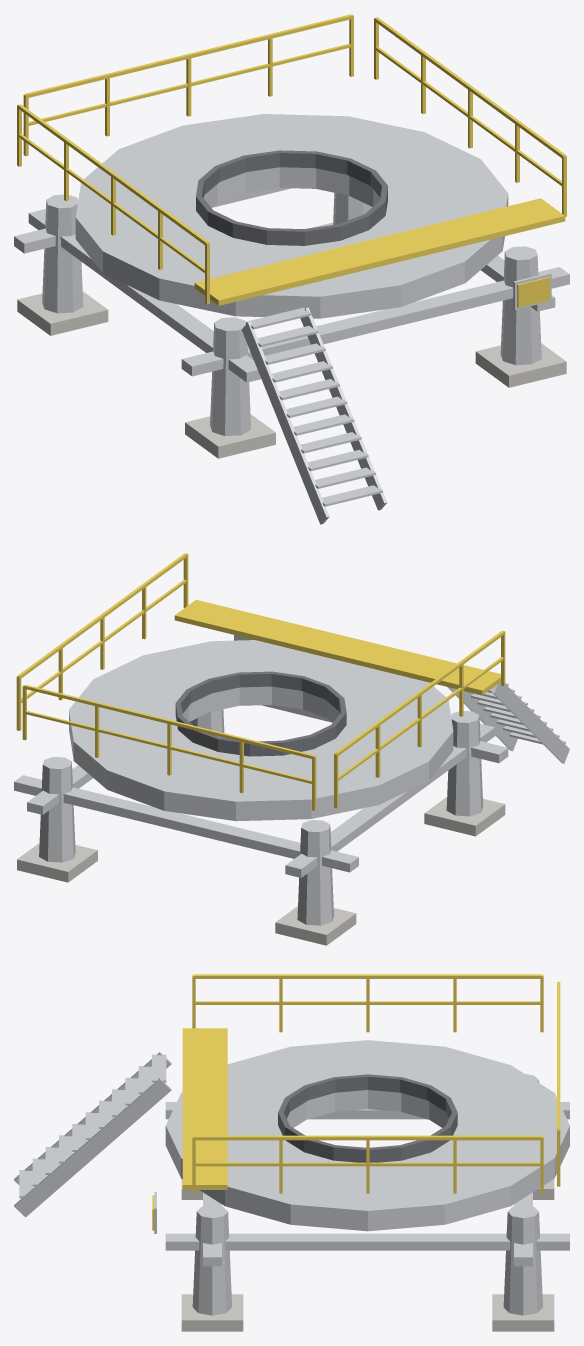
File: rocket-launch-pad-and-gantry-launch-table-42c72052__38158.glb
The picture shows the model from 3 angles, top to bottom: view 1: azimuth 30°, elevation 25°; view 2: azimuth 150°, elevation 25°; view 3: azimuth 270°, elevation 25°; orthographic projection. The views are drawn at different scales.
Parts seen in each view (by area): view 1: launch-table; view 2: launch-table; view 3: launch-table.
Boxes of the visible parts, x1=… form: launch-table: x1=14, y1=14, x2=569, y2=524; launch-table: x1=14, y1=553, x2=569, y2=945; launch-table: x1=14, y1=974, x2=569, y2=1331.
Size of the model in its own units: 7.2 by 4.03 by 9.9.
